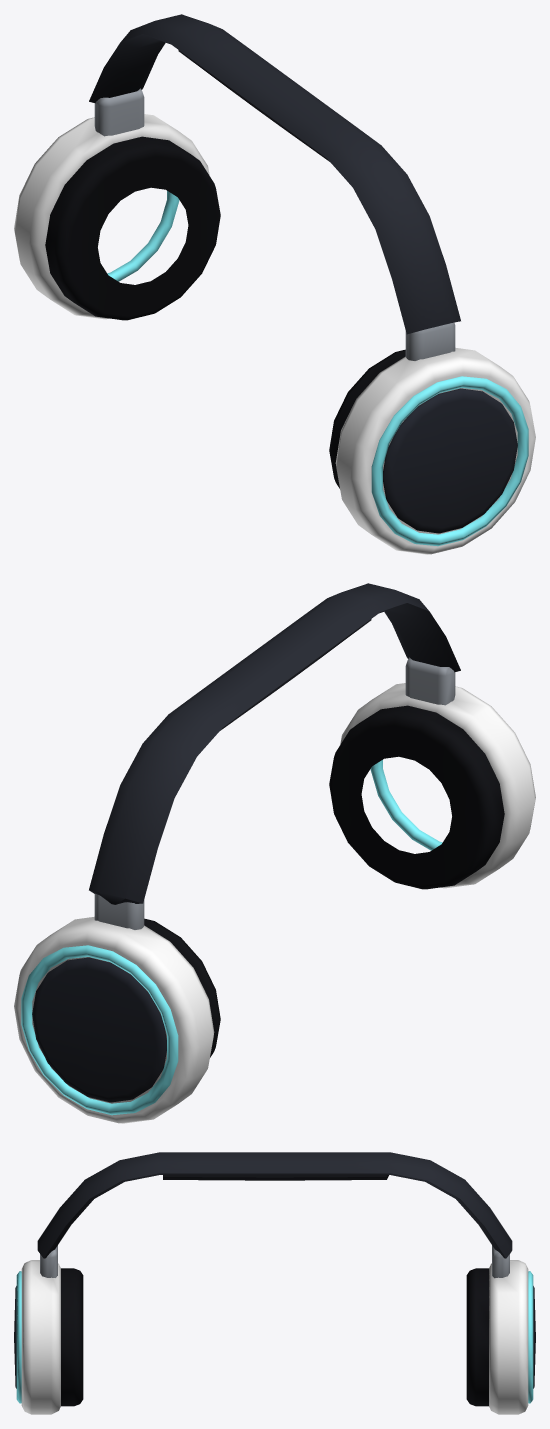
File: acc_headphones_neon.glb
3 views of the same model, one above another, from view 1: azimuth 30°, elevation 25°; view 2: azimuth 150°, elevation 25°; view 3: azimuth 270°, elevation 25° (orthographic). The views are drawn at different scales.
Parts seen in each view (by area): view 1: acc_headphones_neon, Glow; view 2: acc_headphones_neon, Glow; view 3: acc_headphones_neon, Glow.
Boxes of the visible parts, box(x1,y1,x2,y2) form: acc_headphones_neon: box(14, 14, 535, 554); Glow: box(107, 191, 528, 546); acc_headphones_neon: box(14, 583, 535, 1123); Glow: box(21, 760, 442, 1115); acc_headphones_neon: box(14, 1152, 535, 1414); Glow: box(16, 1271, 533, 1403).
Size of the model in its own units: 0.204 by 0.3618 by 0.686.
